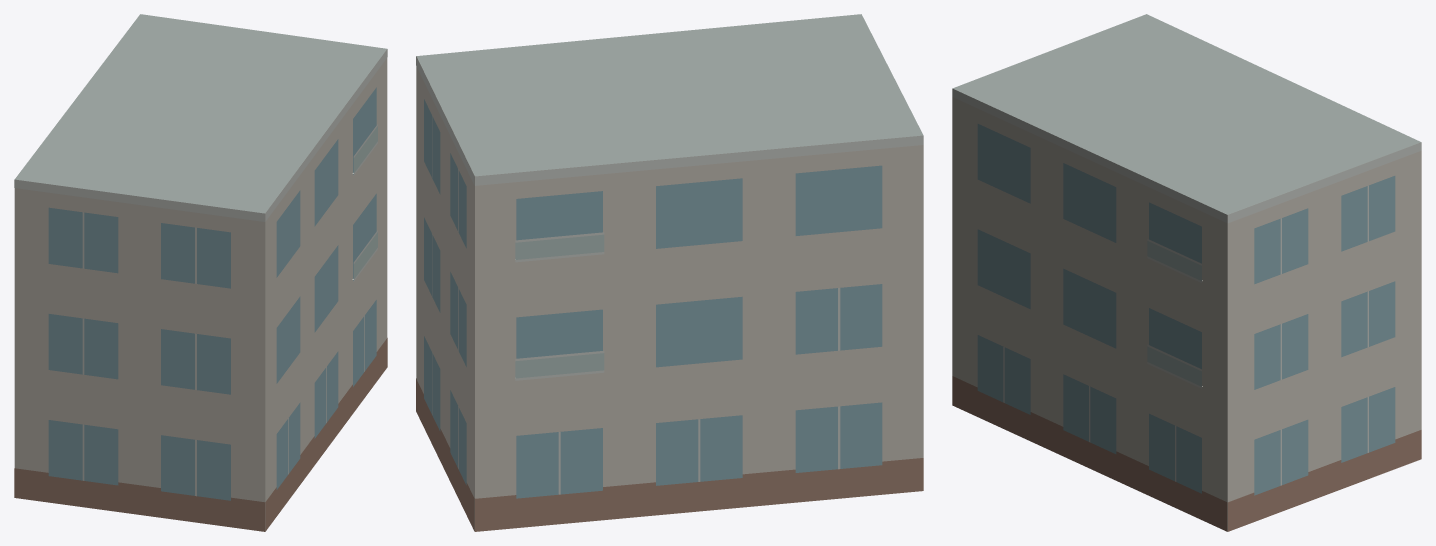
File: survey-upis-32719231.glb
3 renders of one model, left to right at view 1: azimuth 30°, elevation 25°; view 2: azimuth 150°, elevation 25°; view 3: azimuth 270°, elevation 25°, orthographic. The views are drawn at different scales.
Parts seen in each view (by area): view 1: survey-upis-32719231.tmp; view 2: survey-upis-32719231.tmp; view 3: survey-upis-32719231.tmp.
Part boxes in pixels (box(x1,y1,x2,y2)): survey-upis-32719231.tmp: box(14, 14, 387, 531); survey-upis-32719231.tmp: box(416, 14, 923, 531); survey-upis-32719231.tmp: box(952, 14, 1421, 531).
Size of the model in its own units: 12.45 by 9.15 by 12.29.
